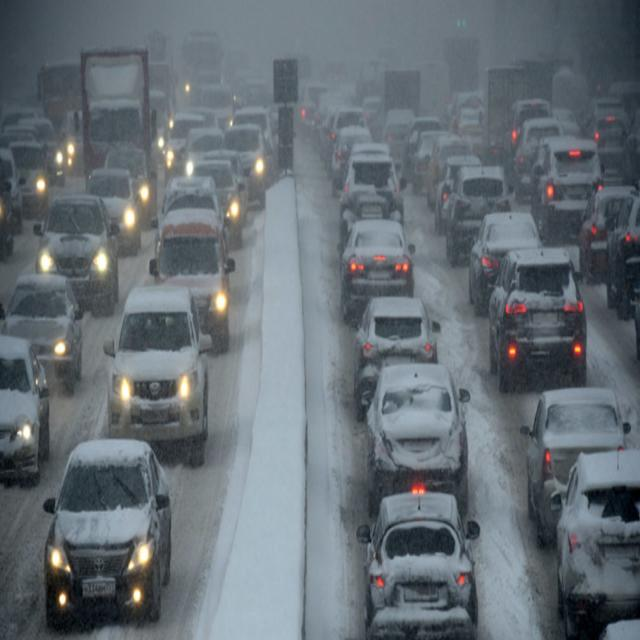bus: (80, 44, 154, 218), (39, 62, 83, 179), (484, 61, 530, 160), (142, 34, 170, 154), (180, 34, 224, 103), (415, 56, 449, 127), (383, 65, 419, 132)
car: (41, 438, 170, 631), (361, 486, 474, 638), (107, 286, 205, 460), (556, 449, 640, 636), (524, 388, 628, 538), (544, 427, 632, 592), (489, 252, 585, 394), (368, 362, 464, 492), (34, 195, 116, 319), (158, 213, 234, 339), (353, 298, 433, 396), (468, 211, 544, 311), (2, 297, 79, 394), (0, 330, 48, 484), (341, 220, 413, 318), (442, 165, 511, 266), (533, 142, 601, 244), (584, 188, 636, 280), (342, 148, 400, 228), (188, 166, 243, 247), (88, 170, 142, 252), (224, 124, 272, 204), (607, 190, 634, 315), (20, 118, 64, 182), (11, 140, 49, 206), (506, 99, 542, 161), (518, 126, 557, 182), (167, 114, 203, 167), (589, 107, 623, 161), (432, 142, 452, 232), (300, 82, 330, 137), (331, 133, 369, 176), (382, 109, 417, 154), (184, 130, 222, 169), (311, 90, 341, 138), (64, 110, 84, 172), (414, 137, 432, 187), (151, 105, 165, 153), (362, 95, 383, 126), (323, 109, 334, 159)
